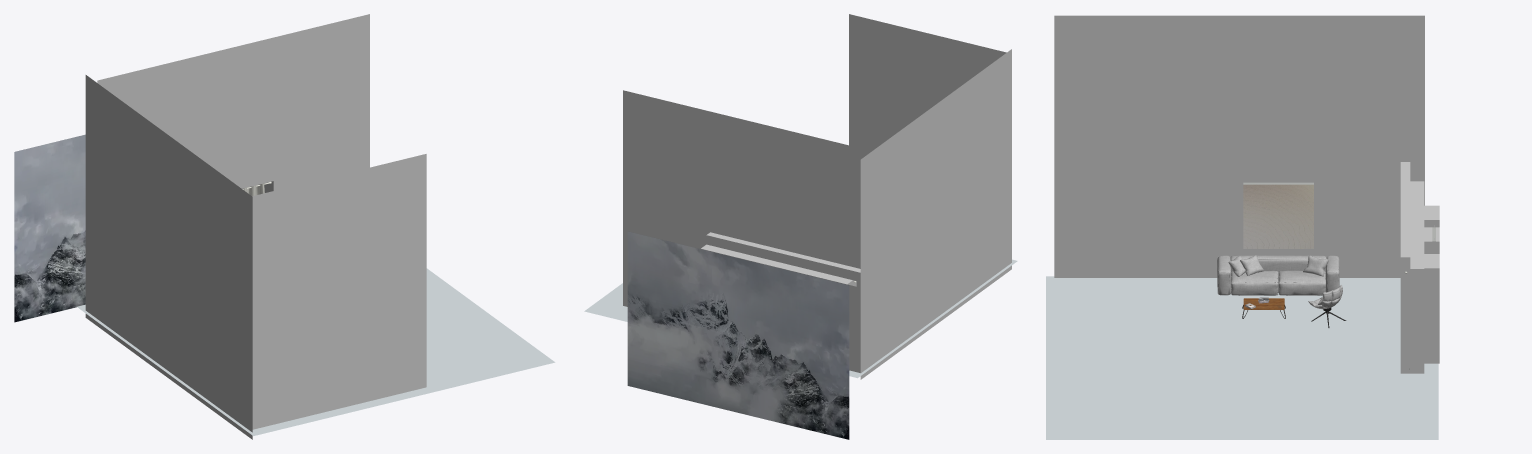
File: final_room7.glb
The picture shows the model from 3 angles, left to right: view 1: azimuth 30°, elevation 25°; view 2: azimuth 150°, elevation 25°; view 3: azimuth 270°, elevation 25°; orthographic projection. The views are drawn at different scales.
Parts seen in each view (by area): view 1: wall, Plane.003_Material.004_0, floor; view 2: wall, Plane.003_Material.004_0, floor; view 3: wall, floor, Leather Sofa_Fabric.002_0, Plane.001_Material.013_0.
Part boxes in pixels (x1,y1,x2,y2): wall: (85,14,426,439); Plane.003_Material.004_0: (14,134,85,322); floor: (77,268,555,435); wall: (623,14,1011,379); Plane.003_Material.004_0: (627,231,849,439); floor: (584,259,1017,378); wall: (1054,15,1439,373); floor: (1046,276,1438,439); Leather Sofa_Fabric.002_0: (1217,255,1339,295); Plane.001_Material.013_0: (1243,184,1313,248).
Bounding box in the file's own units: 30.94 × 24.6 × 34.66.
12 materials, 8 textured.
